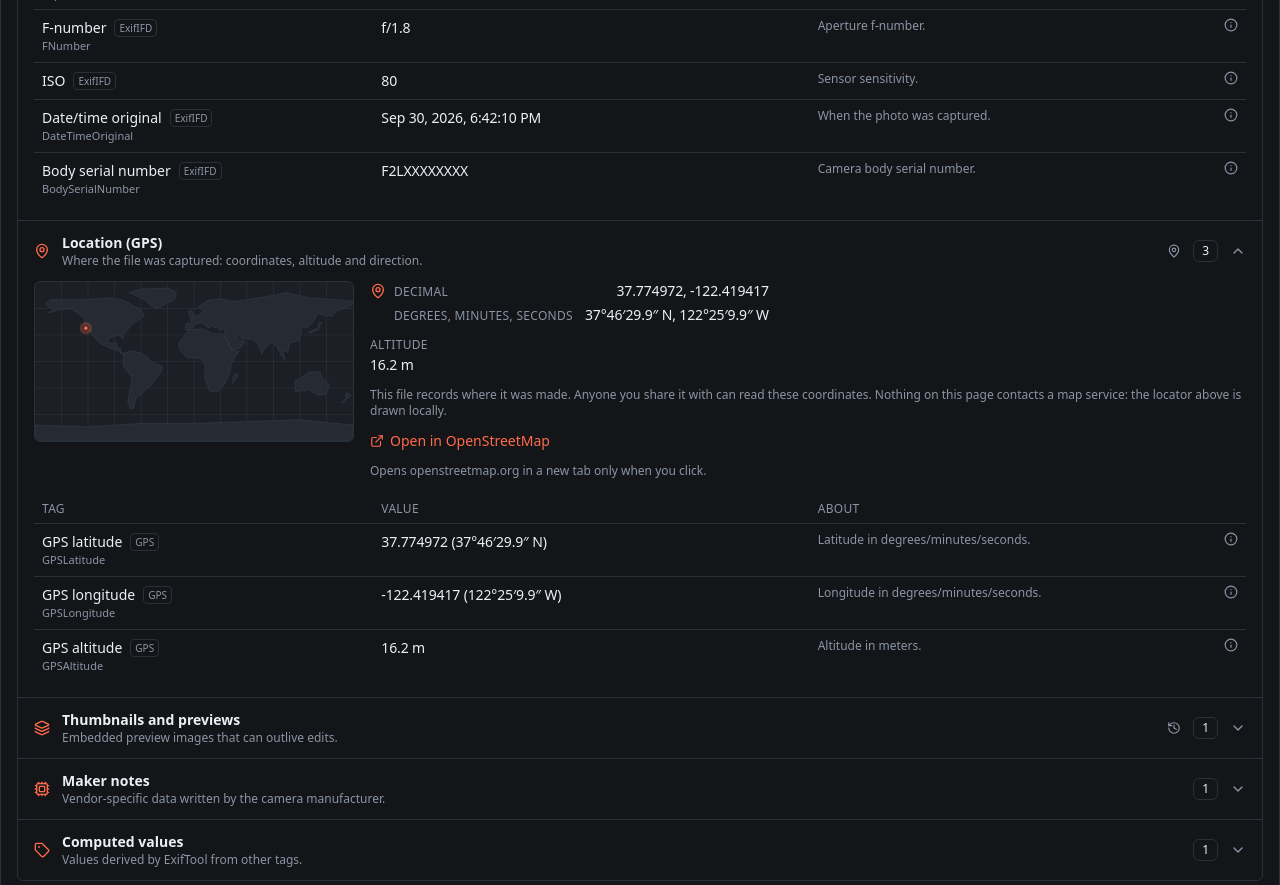
Test: MetadataInspector with a realistic photo › shows the thumbnail warning without a download link when no URL resolves
(page scrolled)
Step 1. Click the button "Thumbnails and previews" → (151, 720), box [18,698,1262,758]
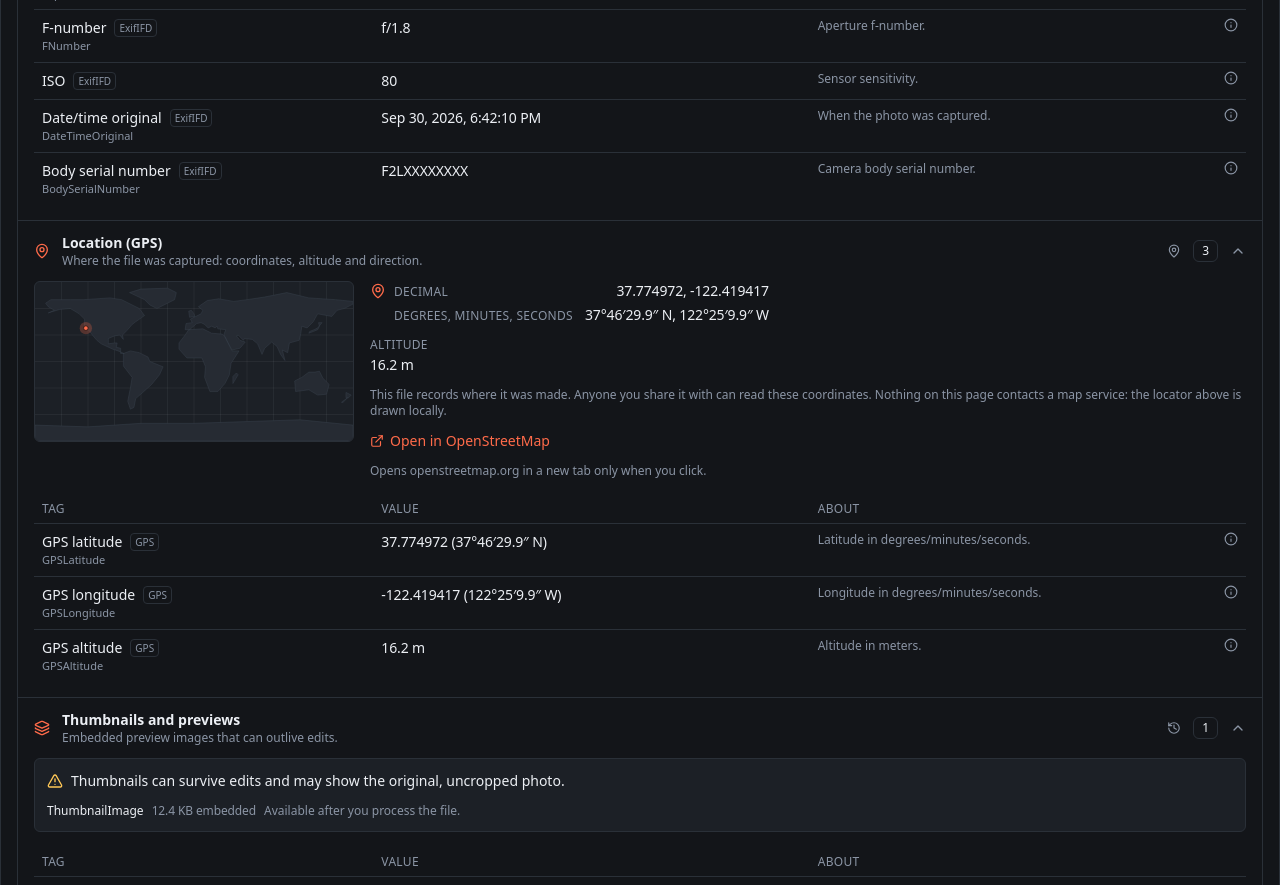
Expected: the element with test id "metadata-thumbnail" shows "Thumbnails can survive edits", [71,771,565,790]
